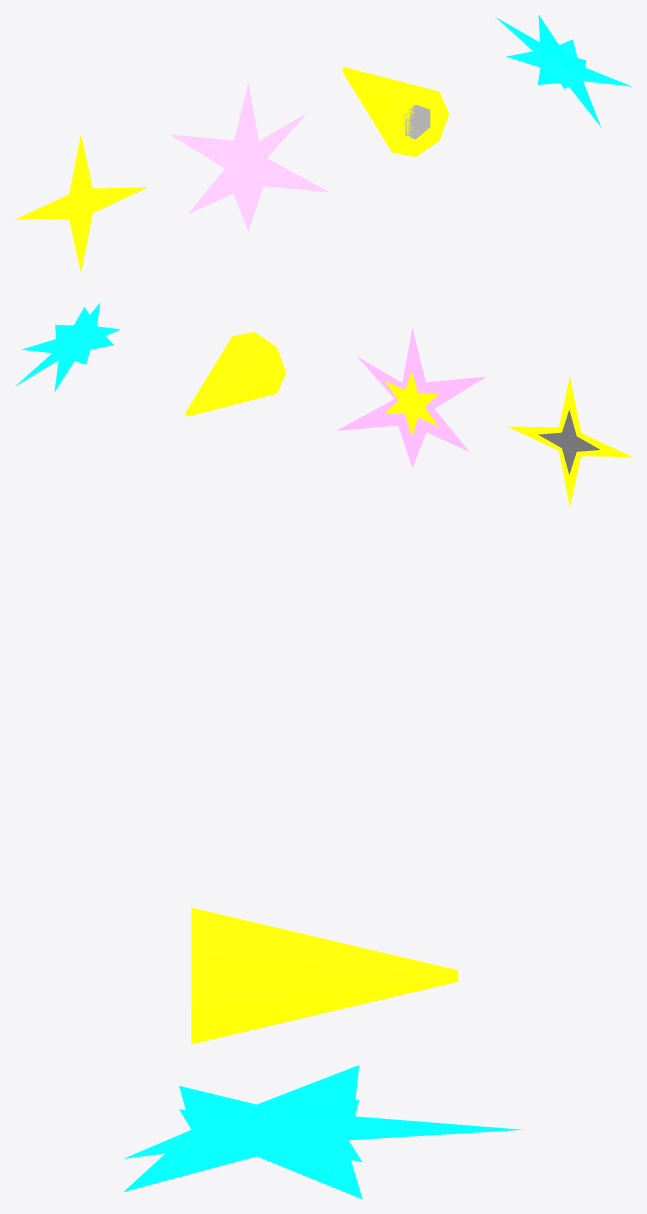
Rendered from FX_MuzzleFlashes.fbx.
3 views of the same model, one above another, from view 1: azimuth 30°, elevation 25°; view 2: azimuth 150°, elevation 25°; view 3: azimuth 270°, elevation 25° (orthographic). The views are drawn at different scales.
Parts seen in each view (by area): view 1: Flash_Star6, Flash_Cone, Flash_Star4, Flash_SideA, Flash_SideB, Flash_ConeCore; view 2: Flash_Cone, Flash_Star6, Flash_Star4, Flash_SideA, Flash_SideB, Flash_Star6_Core, Flash_Star4_Core; view 3: Flash_Cone, Flash_SideA, Flash_SideB.
Boxes of the visible parts, x1,y1,x2,y2 form: Flash_Star6: (169, 83, 328, 231); Flash_Cone: (342, 67, 448, 156); Flash_Star4: (15, 134, 147, 272); Flash_SideA: (496, 15, 600, 126); Flash_SideB: (497, 18, 631, 88); Flash_ConeCore: (403, 104, 430, 139); Flash_Cone: (185, 332, 286, 416); Flash_Star6: (336, 328, 485, 467); Flash_Star4: (507, 376, 632, 506); Flash_SideA: (16, 302, 113, 391); Flash_SideB: (15, 307, 120, 386); Flash_Star6_Core: (385, 371, 438, 436); Flash_Star4_Core: (538, 410, 600, 474); Flash_Cone: (191, 907, 458, 1044); Flash_SideA: (123, 1065, 519, 1199); Flash_SideB: (123, 1099, 523, 1162).
Size of the model in its own units: 1.08 by 0.258 by 0.3305.
